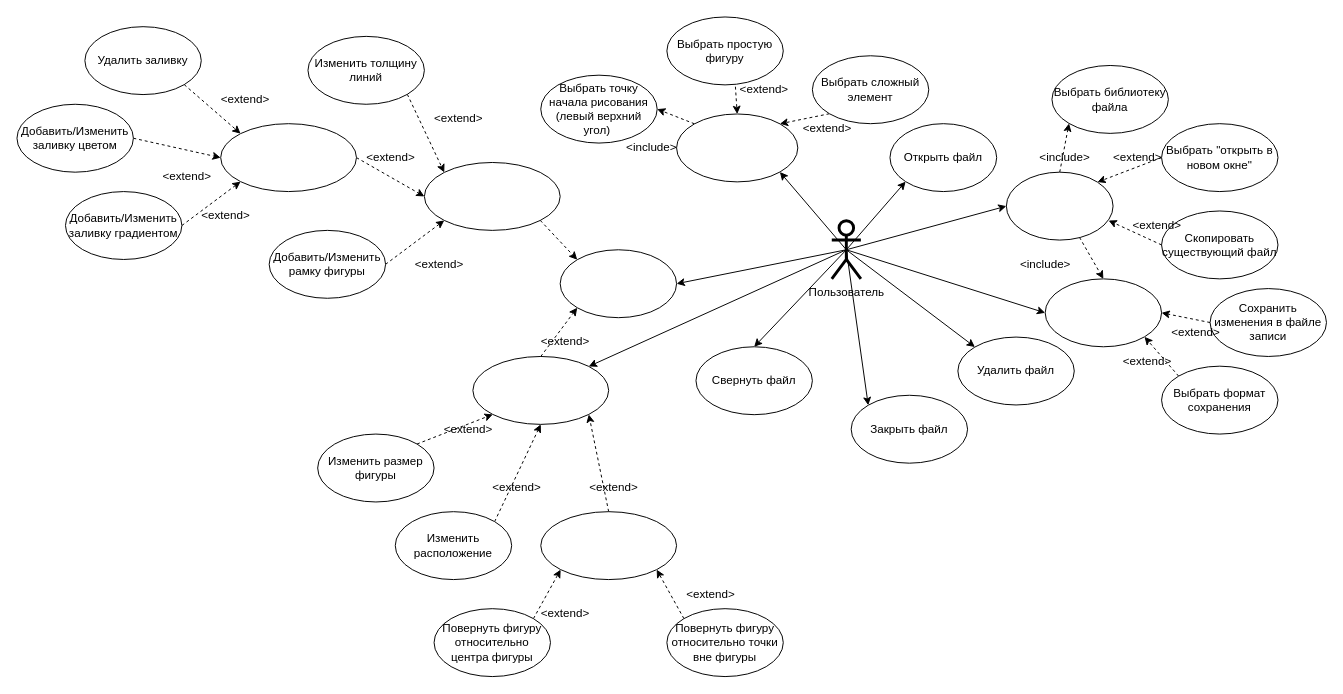
Image size: 1343x694. Some labels were removed from this diagram. The box of each missing label's shape, as (x1, y1, x2, y2) in pixels:
Выбрать фигуру в библиотеке граф.редактора: (676, 113, 798, 182)
Выбрать фигуру/группу фигур/элемент: (559, 249, 677, 318)
Добавить/Изменить заливку фигуры: (220, 123, 356, 192)
Изменить положение фигуры: (472, 356, 609, 424)
Изменить фигуру: (423, 162, 560, 230)
Повернуть: (540, 511, 677, 580)
Создать файл: (1005, 171, 1113, 240)
Сохранить файл: (1044, 278, 1162, 347)
